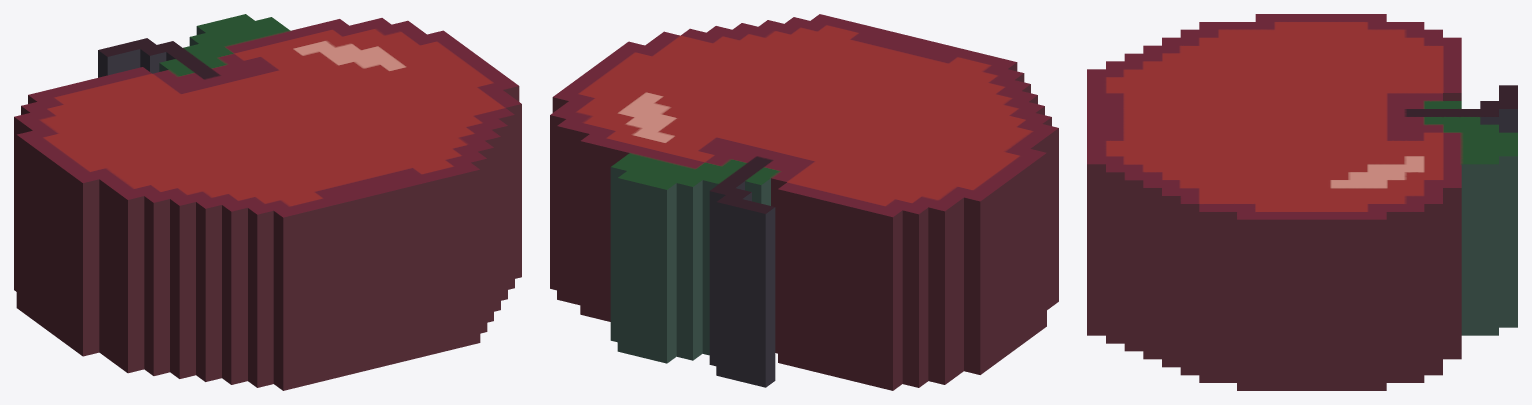
File: apple.glb
3 renders of one model, left to right at view 1: azimuth 30°, elevation 25°; view 2: azimuth 150°, elevation 25°; view 3: azimuth 270°, elevation 25°, orthographic.
Parts seen in each view (by area): view 1: apple1-1.001-col; view 2: apple1-1.001-col; view 3: apple1-1.001-col.
Part boxes in pixels (bbox=[...]): apple1-1.001-col: bbox=[14, 14, 521, 390]; apple1-1.001-col: bbox=[550, 14, 1058, 390]; apple1-1.001-col: bbox=[1087, 14, 1517, 390].
Bounding box in the file's own units: 0.8125 × 0.3152 × 0.7188.
4 materials, 1 textured.
